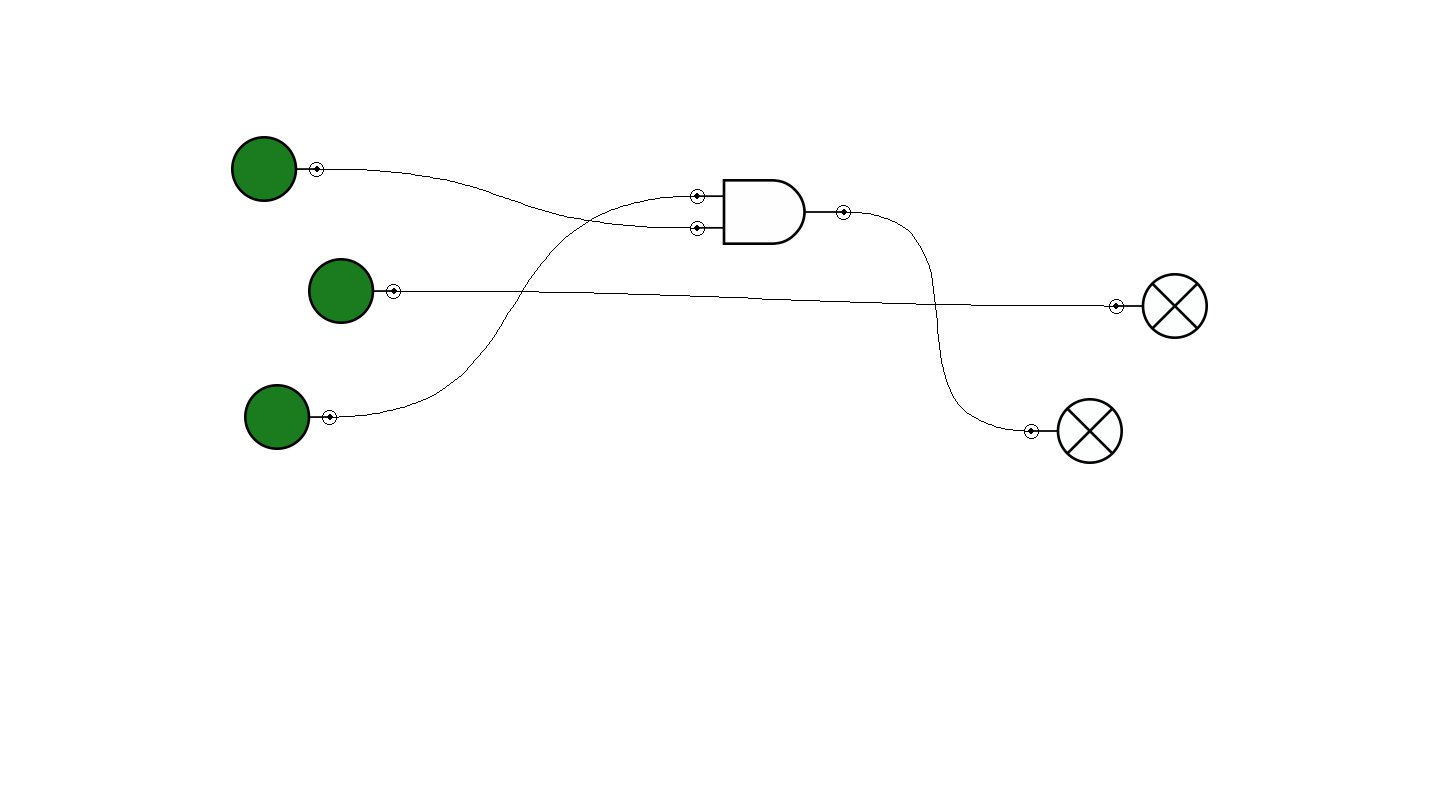and: (690, 179, 851, 245)
bulb: (1109, 273, 1208, 339), (1024, 398, 1123, 464)
switch_True: (308, 258, 401, 324), (244, 384, 337, 450), (231, 136, 324, 202)
